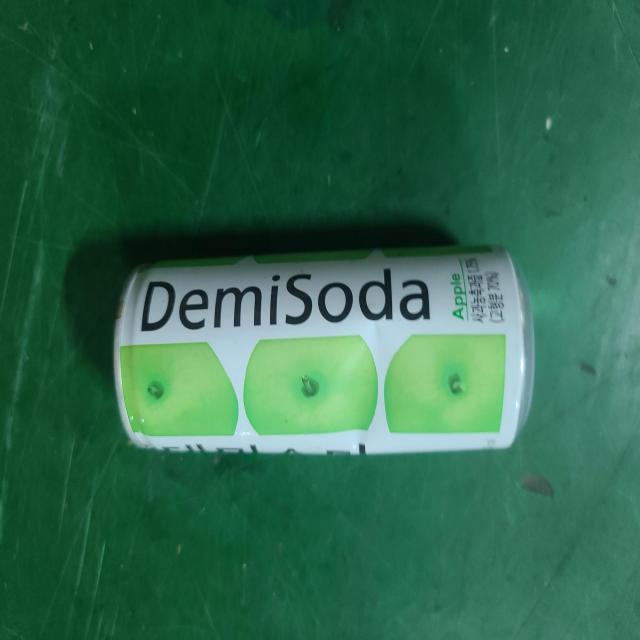can: (114, 246, 535, 454)
